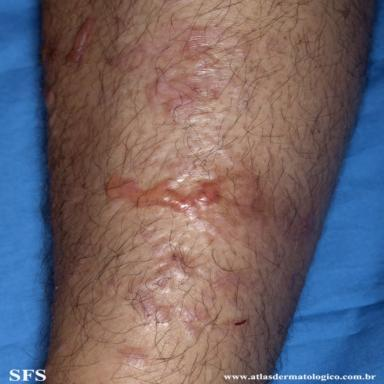Epidermolysis-Bullosa-Pruriginosa: (108, 25, 235, 111), (106, 174, 269, 231), (132, 253, 190, 327), (66, 17, 96, 66), (178, 307, 208, 339), (119, 349, 148, 368)
